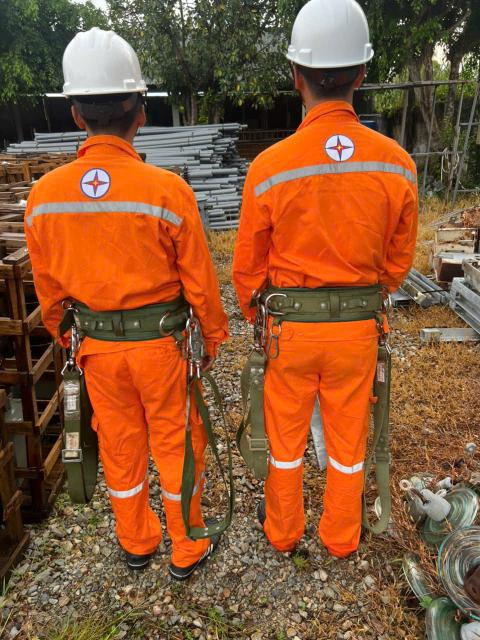harness: (249, 279, 393, 333), (55, 294, 198, 341)
helmet: (267, 0, 386, 66), (59, 25, 150, 109)
shoes: (166, 523, 229, 581)
